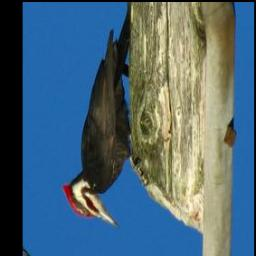Woodpecker: (57, 7, 145, 228)
